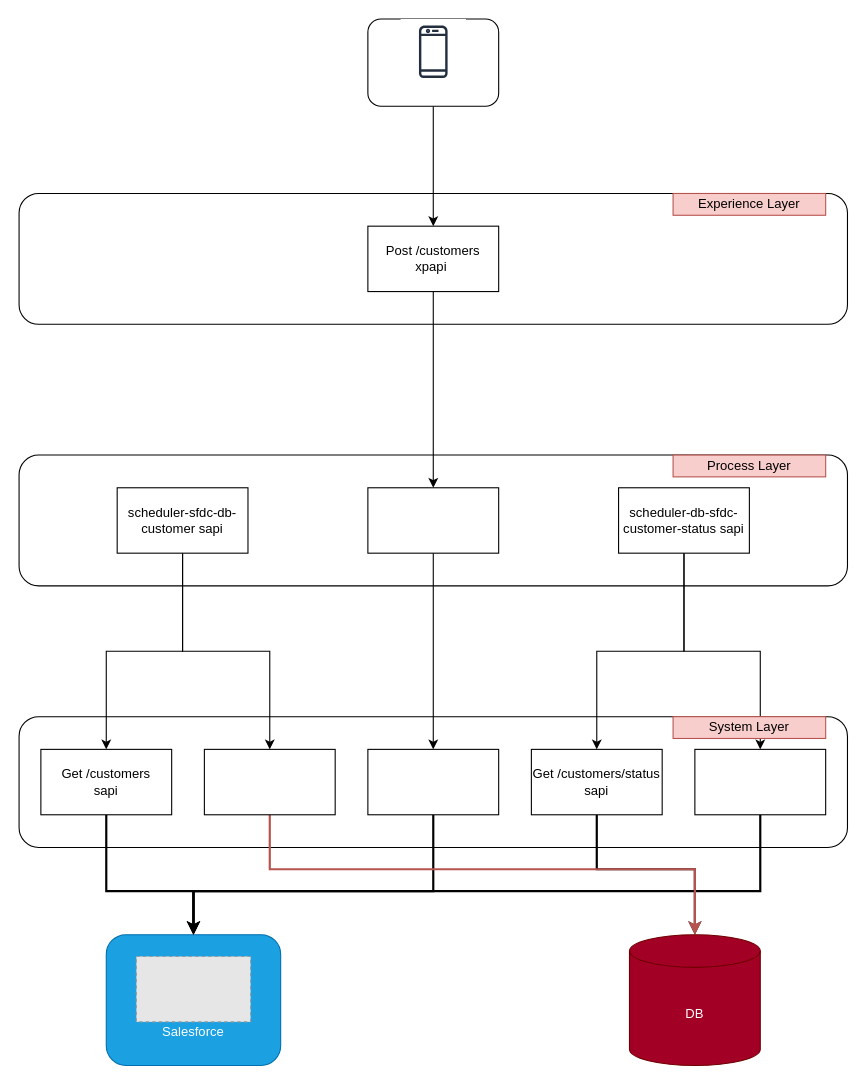
Some shapes in this 867 by 1085 pixel diagram are drawn without their labels. Grey dashed boxes stand in for pictures. The centre of each missing label's shape, as x and y in pixels:
"Mobile client" belongs at point 432,51.
"Patch /customers/status sapi" belongs at point 760,781.
"Post /customers papi" belongs at point 433,520.
"Post /customers sapi" belongs at point 433,781.
"Post /customers/status sapi" belongs at point 269,781.
